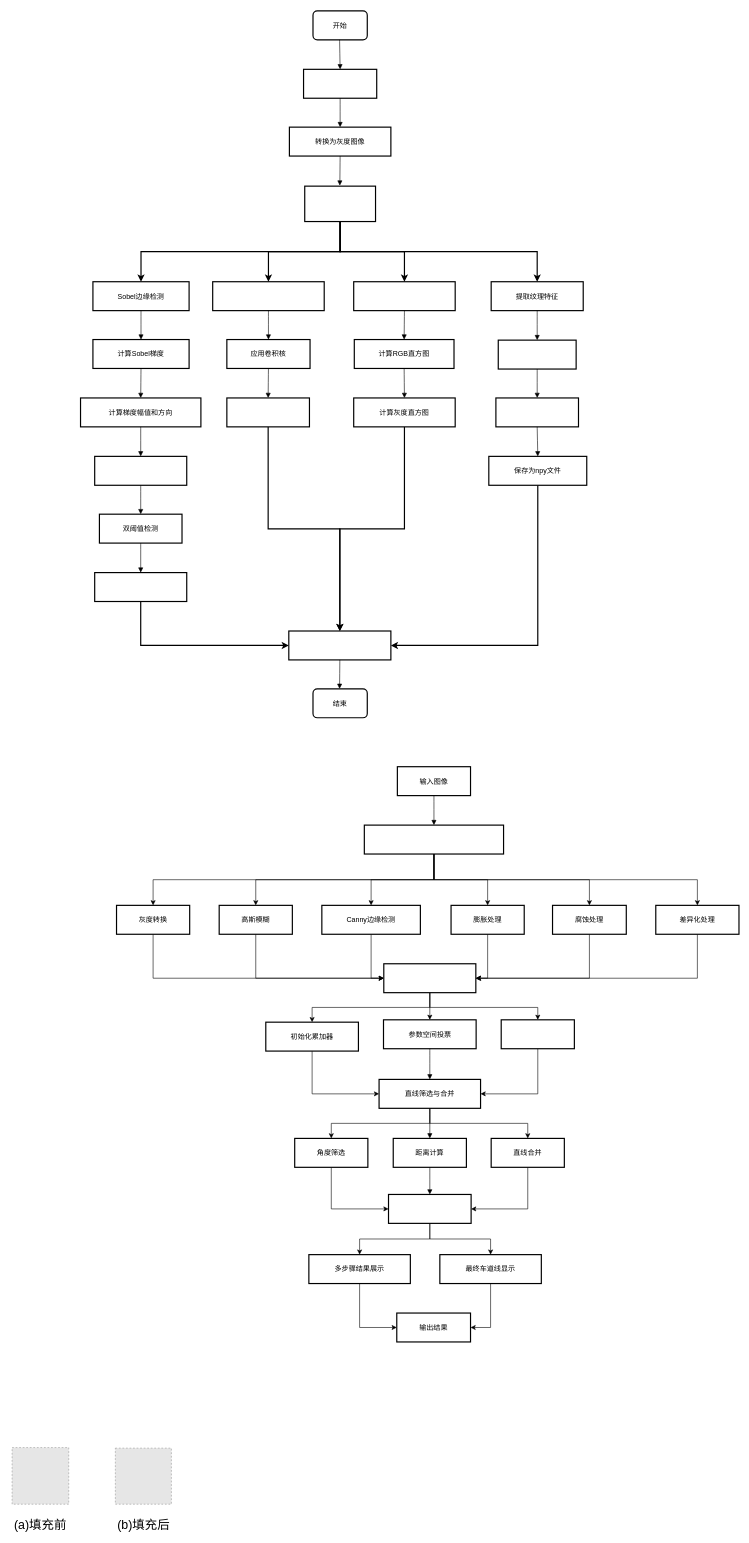
The diagram is 749 pixels wide and 1543 high, and some of its shapes have lost their labels. Grey dashed boxes stand in for pictures. The centre of each missing label's shape, as x and y in pixels:
"二值化处理" belongs at [268,412].
"图像预处理与形态学处理" belongs at [433,839].
"处理" belongs at [340,203].
"显示和保存结果" belongs at [339,645].
"滞后边缘跟踪" belongs at [140,587].
"结果可视化" belongs at [429,1209].
"自定义卷积核滤波" belongs at [268,296].
"计算GLCM" belongs at [536,354].
"计算特征值" belongs at [537,412].
"计算颜色直方图" belongs at [404,296].
"读取图像" belongs at [340,83].
"阈值筛选" belongs at [537,1034].
"霍夫变换实现" belongs at [429,978].
"非极大值抑制" belongs at [140,470].
